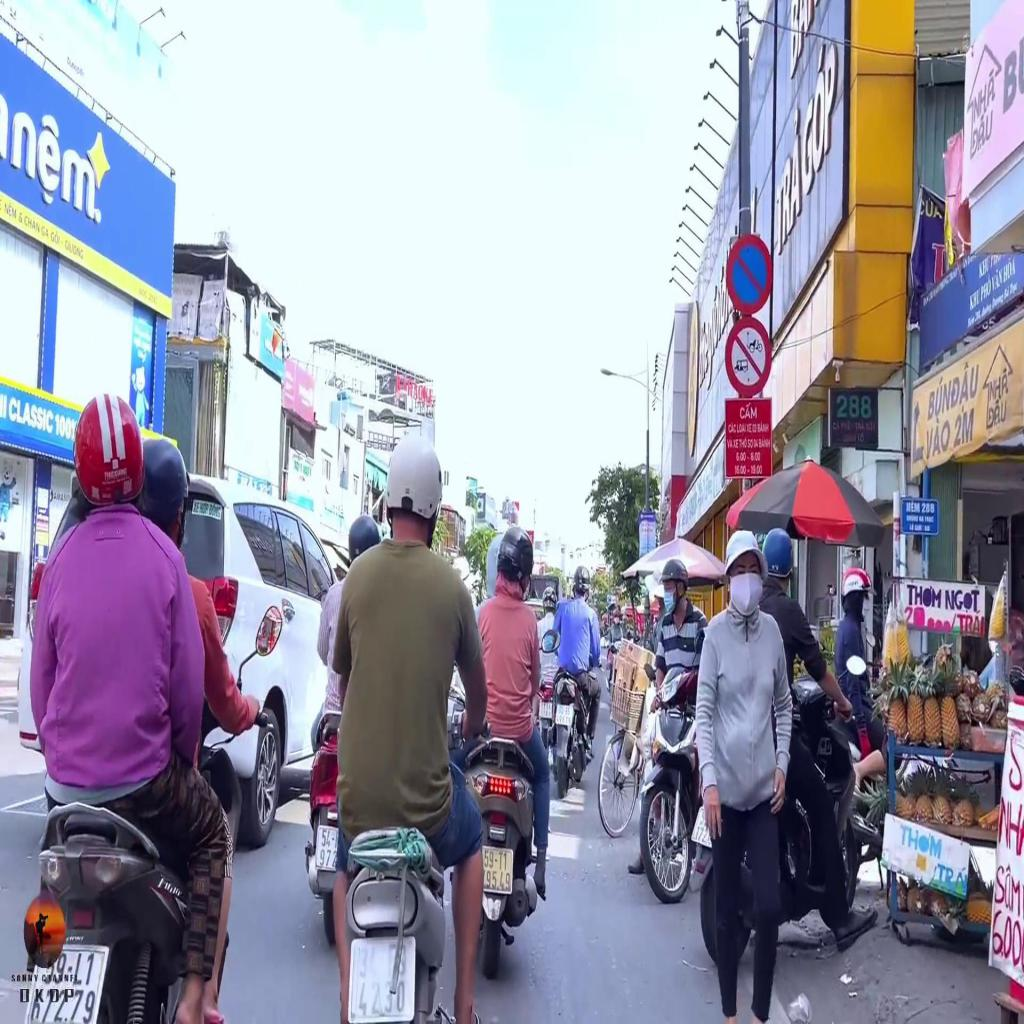cam_cac_loai_xe_3_banh: (724, 317, 771, 400)
cam_do_xe: (726, 235, 772, 314)
